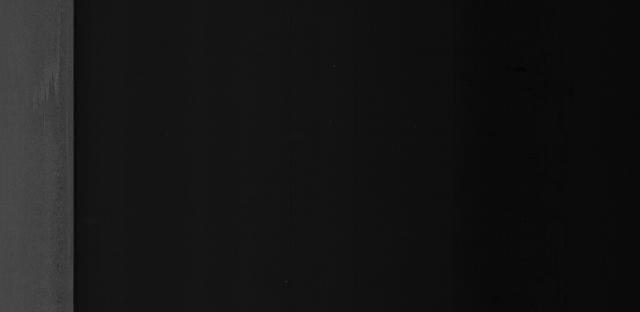silk_spot: (29, 41, 64, 117)
